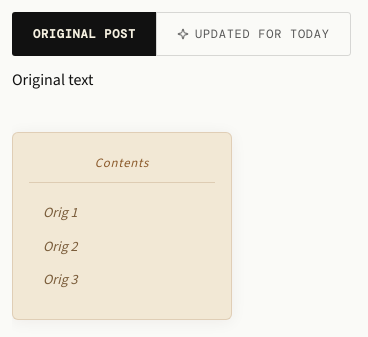
Scenario: EssayVersion › switching shows the updated body and its contents
Click the button "UPDATED FOR TODAY" at (253, 34), box [156,12,351,56]
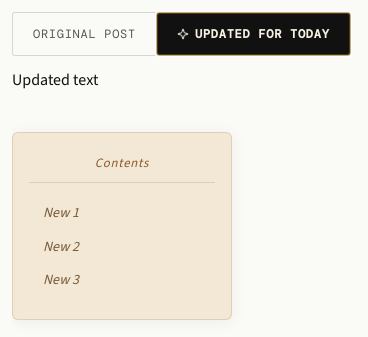
Check: the text "Updated text" is shown, box [12,69,98,90]
Check: the text "Original text" is gone
Check: the link "New 1" is shown, box [43,203,79,222]
Click the button "ORIGINAL POST" at (84, 34), box [12,12,156,56]
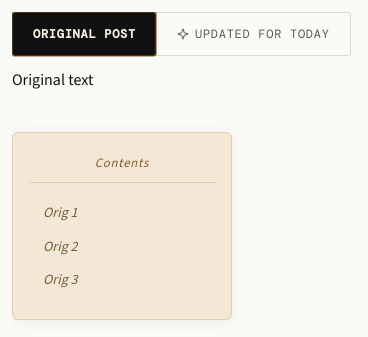
Check: the text "Original text" is shown, box [12,69,93,90]
